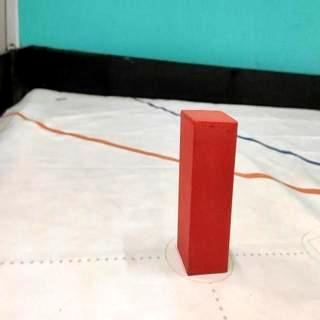redbox: (176, 109, 239, 278)
